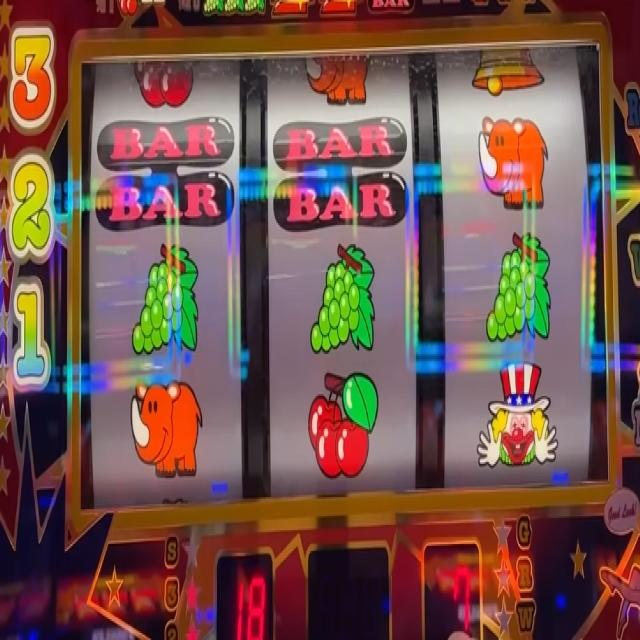bar: (95, 115, 235, 231), (275, 116, 407, 225)
bell: (471, 42, 546, 93)
cherry: (307, 369, 377, 476), (131, 59, 196, 110), (116, 0, 139, 15)
clown: (473, 357, 558, 471)
display: (81, 38, 612, 484)
elephant: (129, 376, 202, 476), (477, 116, 548, 210), (304, 57, 371, 107)
grape: (130, 242, 200, 358), (486, 229, 552, 348), (308, 242, 378, 353), (243, 0, 267, 19), (224, 0, 244, 20), (203, 0, 224, 17)
z: (320, 1, 358, 22), (272, 0, 310, 20)
